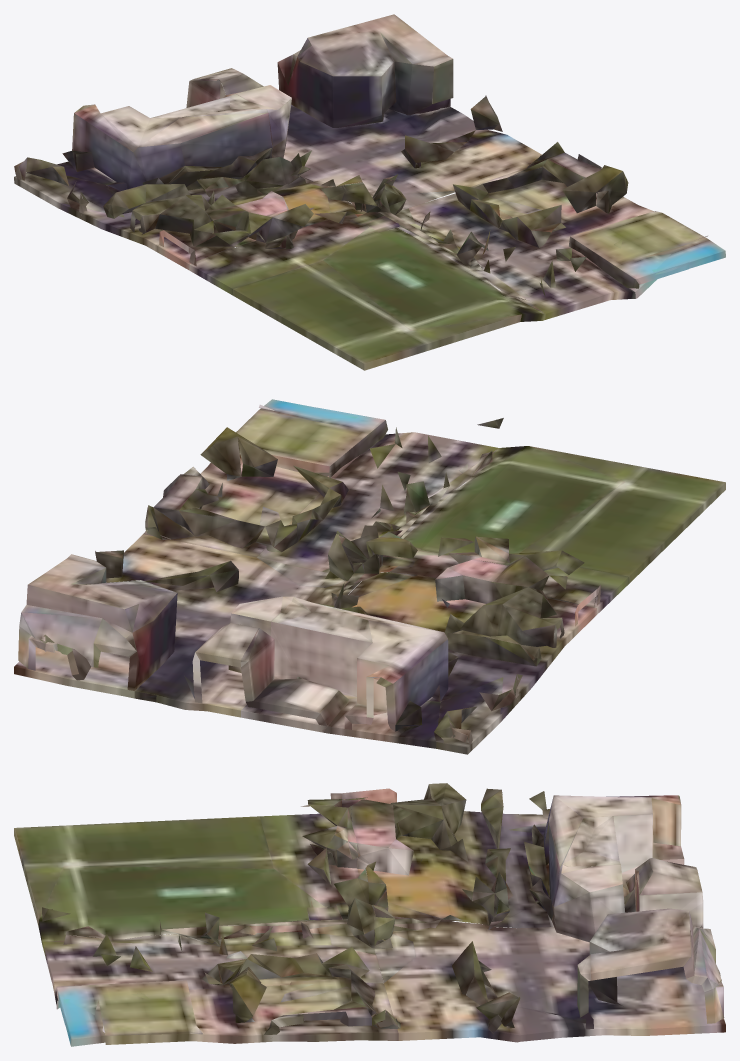
The picture shows the model from 3 angles, top to bottom: view 1: azimuth 30°, elevation 25°; view 2: azimuth 150°, elevation 25°; view 3: azimuth 270°, elevation 25°; orthographic projection. The views are drawn at different scales.
Parts seen in each view (by area): view 1: Mesh_0; view 2: Mesh_0; view 3: Mesh_0.
Part boxes in pixels (x1,y1,x2,y2): Mesh_0: (14,14,725,370); Mesh_0: (14,399,725,754); Mesh_0: (14,783,725,1046).
Size of the model in its own units: 266 by 42.01 by 330.
Materials: 1 (1 with a texture image).
